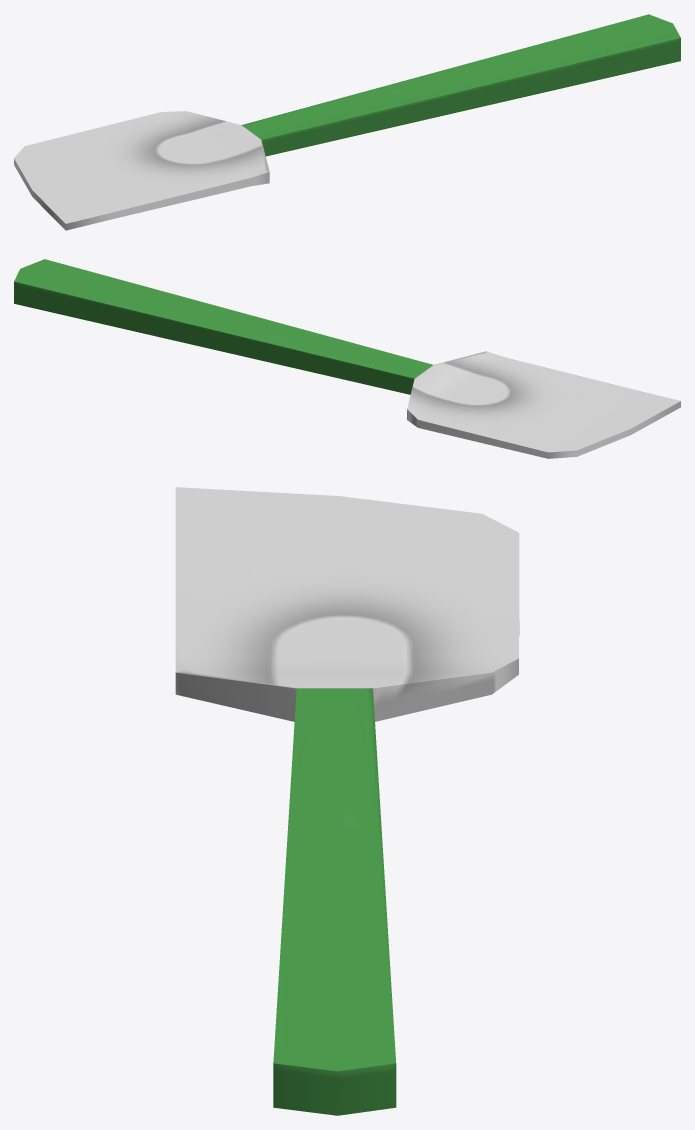
The model's file is Spatula.fbx.
3 views of the same model, one above another, from view 1: azimuth 30°, elevation 25°; view 2: azimuth 150°, elevation 25°; view 3: azimuth 270°, elevation 25° (orthographic). The views are drawn at different scales.
Visible parts, largest first — view 1: Spatula_01; view 2: Spatula_01; view 3: Spatula_01.
Part boxes in pixels (left/top/right/bottom): Spatula_01: left=14, top=14, right=680, bottom=230; Spatula_01: left=14, top=259, right=680, bottom=458; Spatula_01: left=175, top=487, right=519, bottom=1115.
Size of the model in its own units: 96.79 by 3.31 by 23.23.
